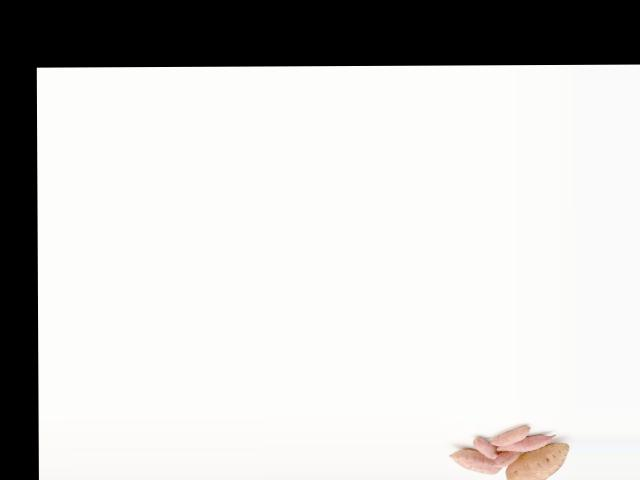sweet_potato: (447, 448, 500, 474)
